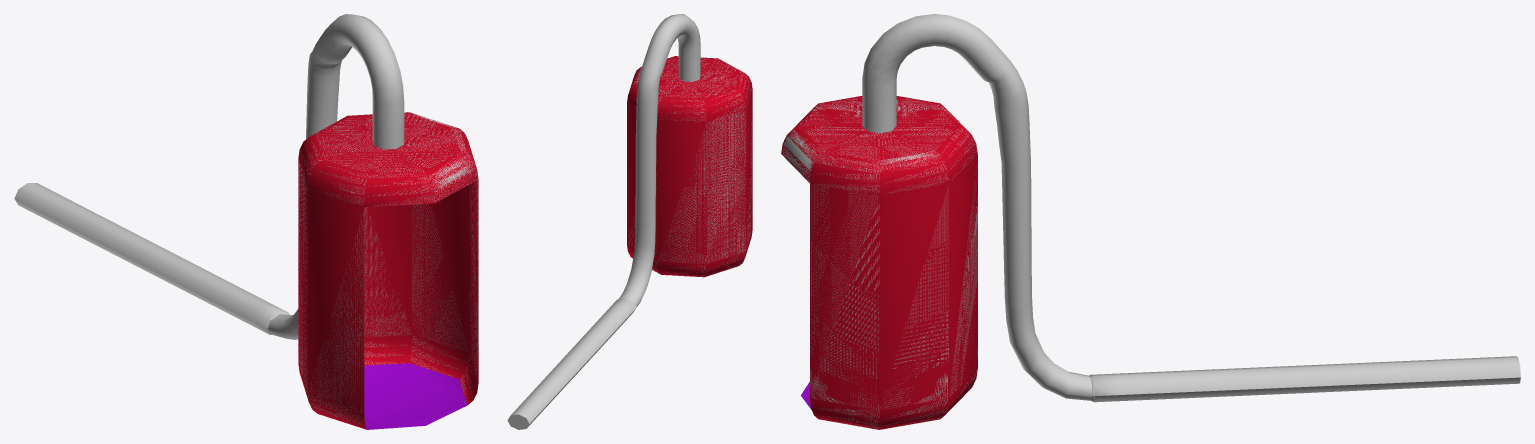
Rendered from kapuseru.fbx.
3 views of the same model, side by side, from view 1: azimuth 30°, elevation 25°; view 2: azimuth 150°, elevation 25°; view 3: azimuth 270°, elevation 25° (orthographic). The views are drawn at different scales.
Parts seen in each view (by area): view 1: kapuseru; view 2: kapuseru; view 3: kapuseru.
Part boxes in pixels (left/top/right/bottom): kapuseru: left=14, top=14, right=478, bottom=429; kapuseru: left=507, top=14, right=752, bottom=429; kapuseru: left=781, top=14, right=1520, bottom=429.
Bounding box in the file's own units: 200 × 444 × 752.
